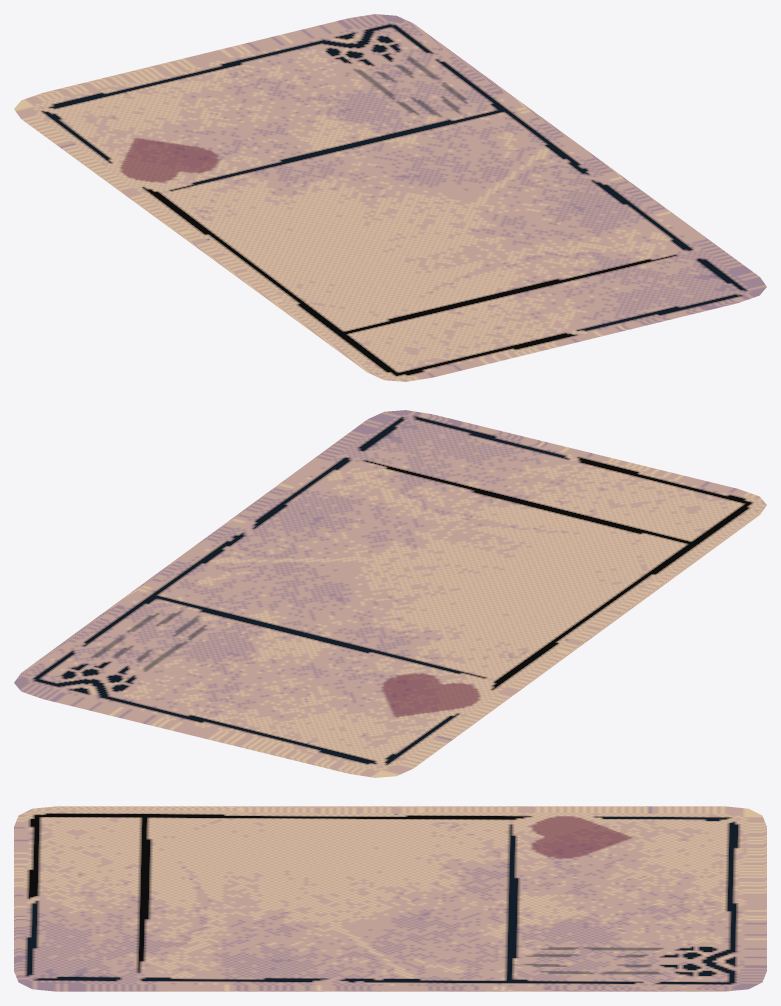
File: singlecardstats.glb
The picture shows the model from 3 angles, top to bottom: view 1: azimuth 30°, elevation 25°; view 2: azimuth 150°, elevation 25°; view 3: azimuth 270°, elevation 25°; orthographic projection. The views are drawn at different scales.
Parts seen in each view (by area): view 1: card.001; view 2: card.001; view 3: card.001.
Part boxes in pixels (x1,y1,x2,y2): card.001: (14, 14, 766, 381); card.001: (14, 410, 766, 777); card.001: (14, 806, 766, 991).
Bounding box in the file's own units: 44.93 × 1.73e-14 × 77.22.
Materials: 1 (1 with a texture image).
